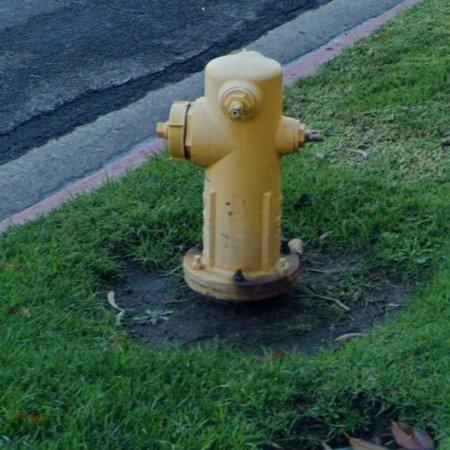a fire hydrant: (157, 51, 322, 302)
